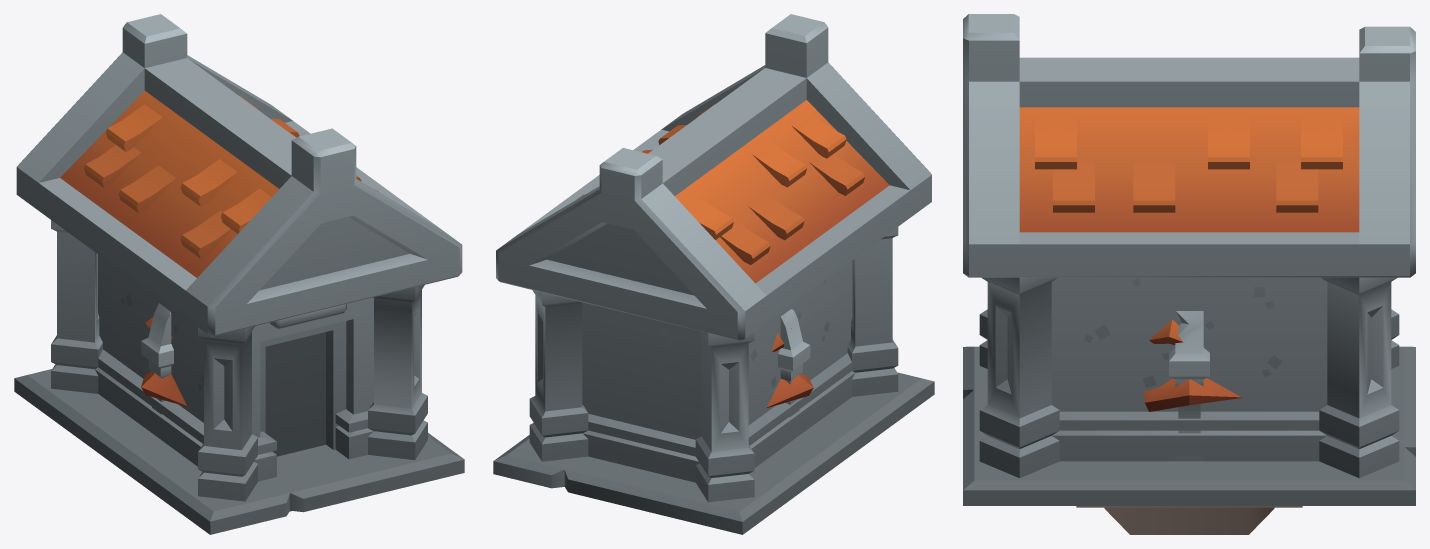
The model's file is props.glb.
The picture shows the model from 3 angles, left to right: view 1: azimuth 30°, elevation 25°; view 2: azimuth 150°, elevation 25°; view 3: azimuth 270°, elevation 25°; orthographic projection. The views are drawn at different scales.
Visible parts, largest first — view 1: crypt, arch, tree_pine_orange_large; view 2: crypt, arch, tree_pine_orange_large; view 3: crypt, floor_dirt_grave, arch, tree_pine_orange_large.
Part boxes in pixels (x1=…): crypt: x1=14, y1=14, x2=464, y2=534; arch: x1=141, y1=303, x2=173, y2=439; tree_pine_orange_large: x1=141, y1=317, x2=187, y2=406; crypt: x1=493, y1=14, x2=934, y2=534; arch: x1=778, y1=309, x2=810, y2=441; tree_pine_orange_large: x1=767, y1=328, x2=813, y2=407; crypt: x1=963, y1=14, x2=1415, y2=505; floor_dirt_grave: x1=1076, y1=506, x2=1302, y2=534; arch: x1=1169, y1=311, x2=1209, y2=461; tree_pine_orange_large: x1=1144, y1=319, x2=1241, y2=411.
Bounding box in the file's own units: 6 × 9.5 × 8.
Materials: 1 (1 with a texture image).
